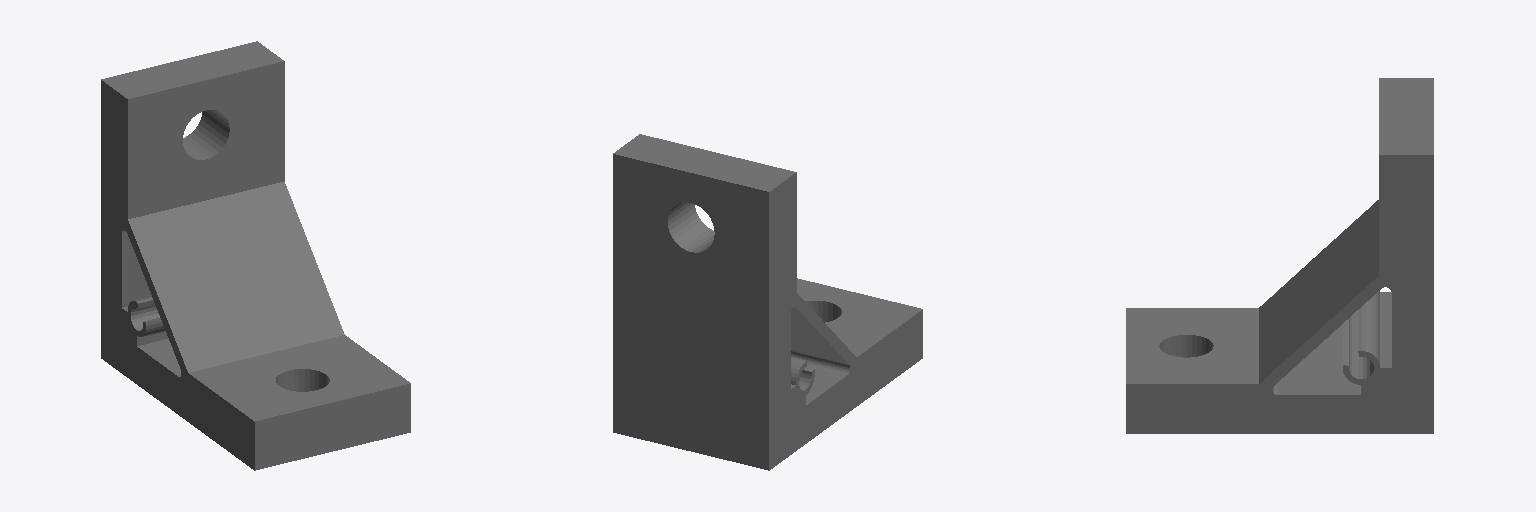
Rendered from HBLTS8_C.obj.
3 views of the same model, side by side, from view 1: azimuth 30°, elevation 25°; view 2: azimuth 150°, elevation 25°; view 3: azimuth 270°, elevation 25° (orthographic).
Visible parts, largest first — view 1: HBLTS8; view 2: HBLTS8; view 3: HBLTS8.
Boxes of the visible parts, box(x1,y1,x2,y2) form: HBLTS8: box(101, 41, 410, 470); HBLTS8: box(613, 134, 922, 470); HBLTS8: box(1126, 78, 1433, 433).
Size of the model in its own units: 3 by 5.1 by 5.1.